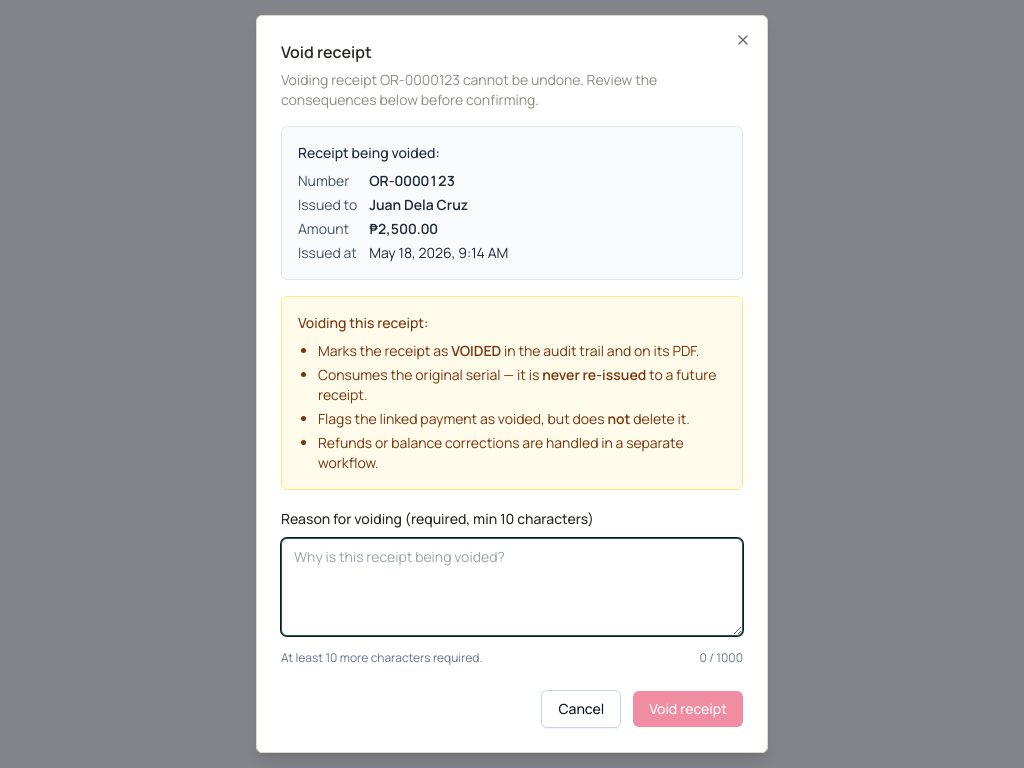
VoidReceiptDialog › disables the confirm button until the reason is at least 10 trimmed chars
The width and height of the screenshot is (1024, 768).
Expected: the button with test id "void-receipt-confirm" is disabled, [633,691,743,727]
Type "too short" into the text box with test id "void-receipt-reason" at (512, 587), box [281,538,743,636]
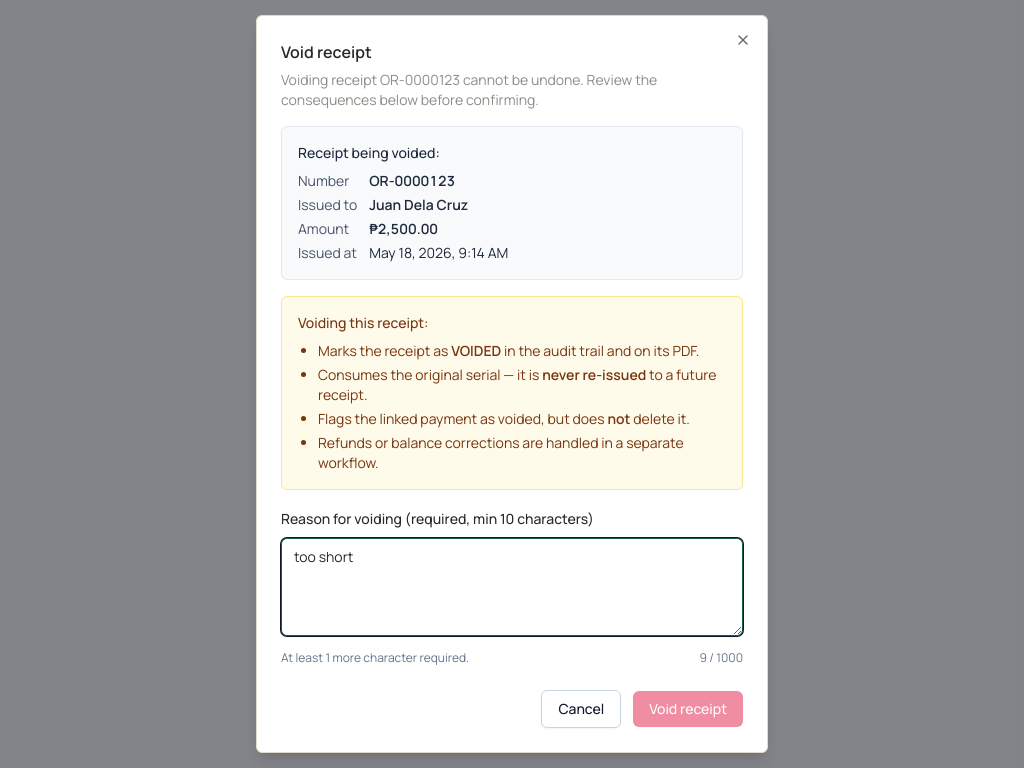
Expected: the button with test id "void-receipt-confirm" is disabled, [633,691,743,727]
Type " — more text now" into the text box with test id "void-receipt-reason" at (512, 587), box [281,538,743,636]
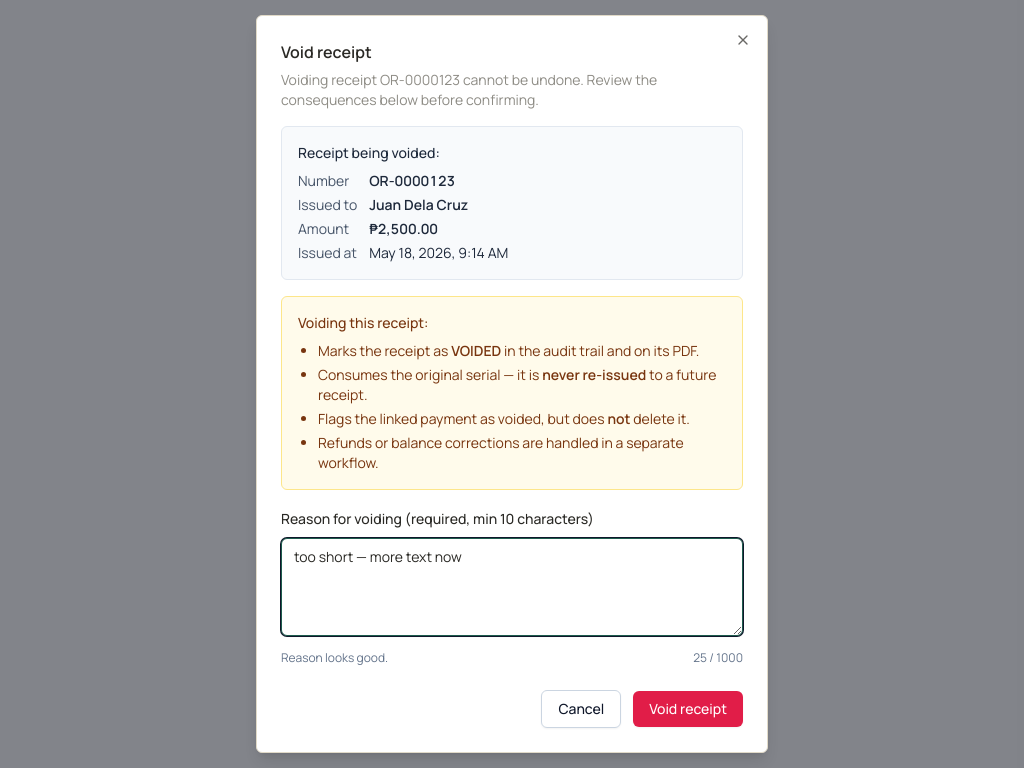
Result: the button with test id "void-receipt-confirm" is enabled at [633,691,743,727]
